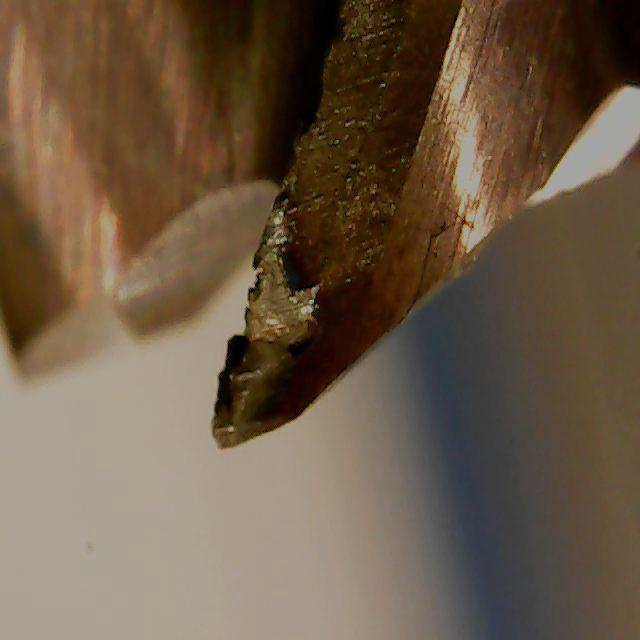Tool-wear-class-3: (201, 198, 370, 492)
